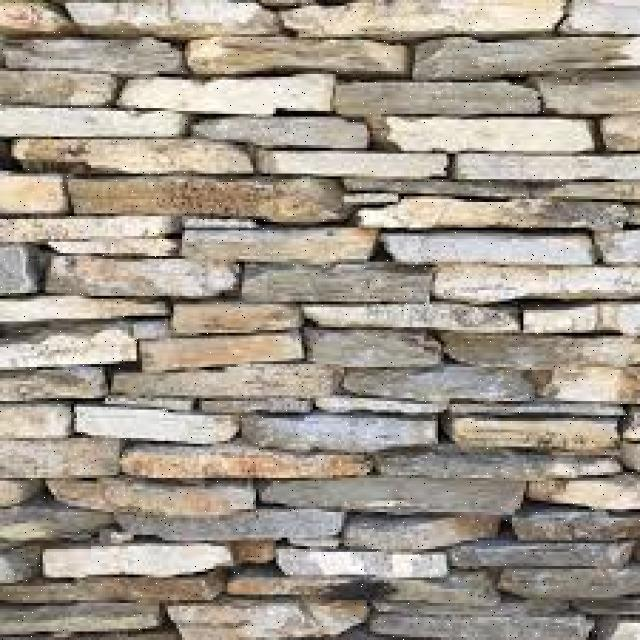Metamorphic: (23, 3, 631, 637)
